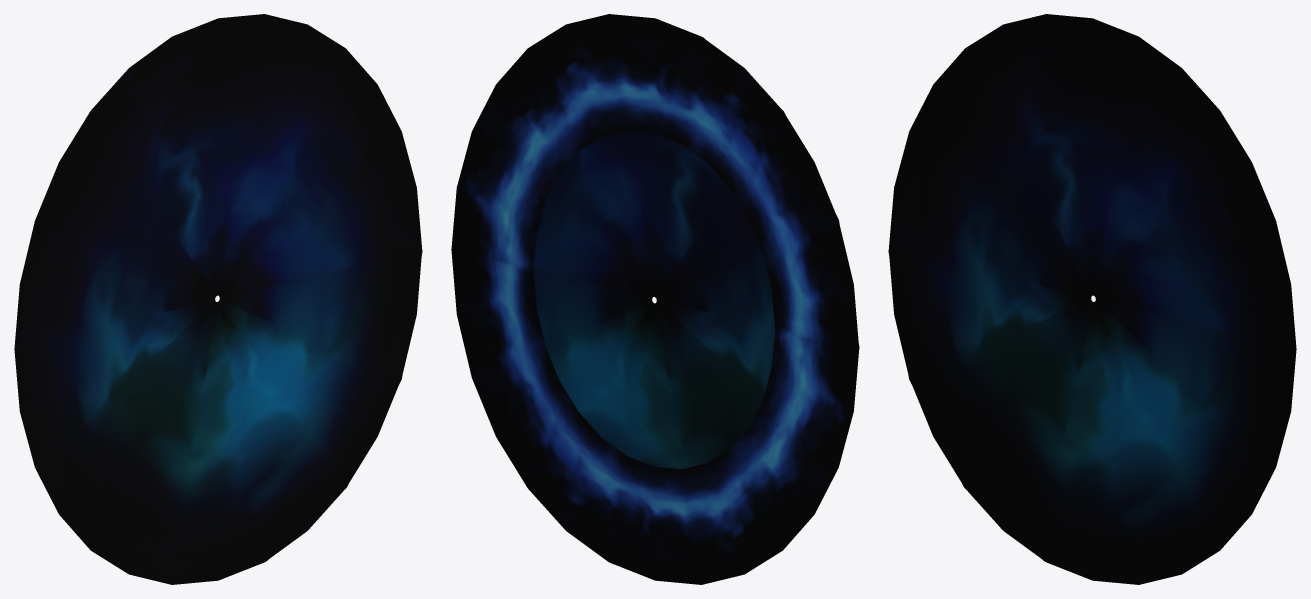
The model's file is chuansong2_3.FBX.
3 renders of one model, left to right at view 1: azimuth 30°, elevation 25°; view 2: azimuth 150°, elevation 25°; view 3: azimuth 330°, elevation 25°, orthographic.
Parts seen in each view (by area): view 1: 3_002, 3_1; view 2: 3_1, 3_002; view 3: 3_002, 3_1.
Part boxes in pixels (bbox=[...]): 3_002: bbox=[17, 17, 422, 584]; 3_1: bbox=[14, 14, 421, 584]; 3_1: bbox=[451, 14, 859, 584]; 3_002: bbox=[533, 37, 859, 469]; 3_002: bbox=[888, 17, 1293, 584]; 3_1: bbox=[889, 14, 1296, 584].
Bounding box in the file's own units: 3.26 × 4.3 × 0.036.
1 material, 1 textured.
